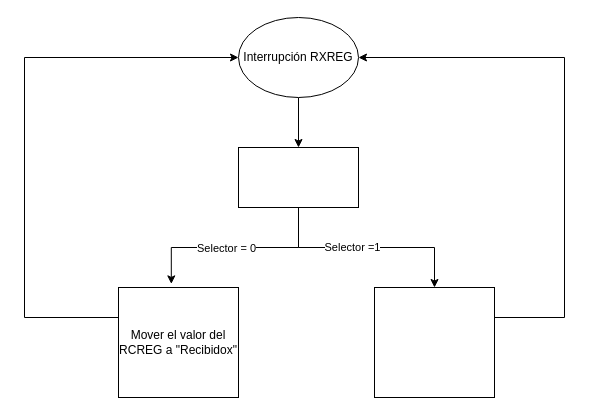
Image size: 590x415. Some labels were removed from this diagram. The shapes that lost their labels are listed below. From the top down, each one's centre as x and y in pixels, then its label:
point 298,177: Revidar selector del mux
point 434,342: Mover el valor del RCREG a "Recibidoy"
